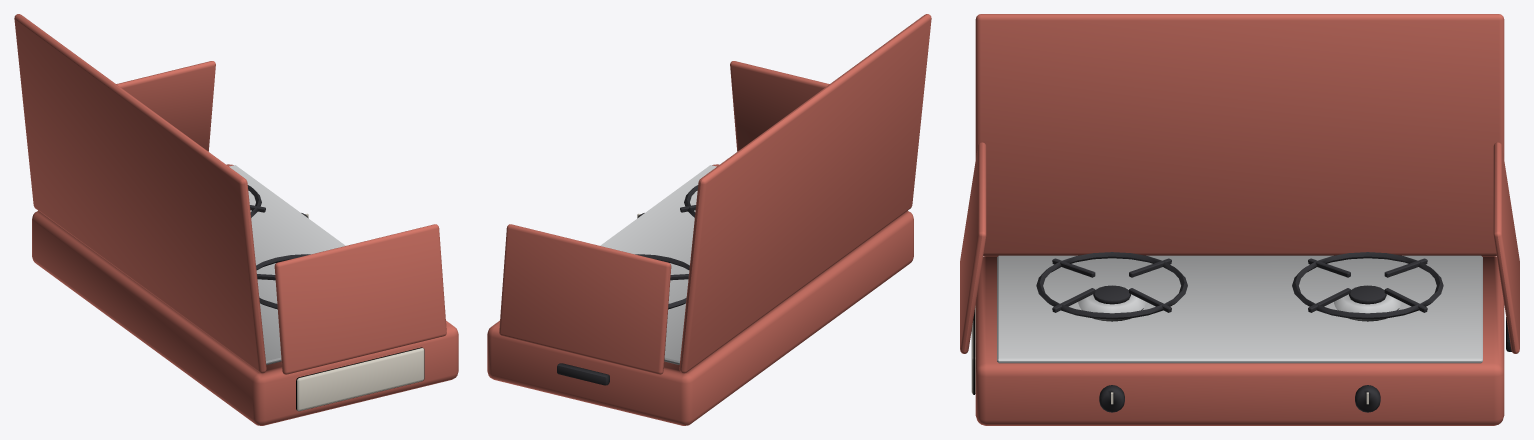
File: nd_stove_2.glb
3 views of the same model, side by side, from view 1: azimuth 30°, elevation 25°; view 2: azimuth 150°, elevation 25°; view 3: azimuth 270°, elevation 25° (orthographic). The views are drawn at different scales.
Parts seen in each view (by area): view 1: PART; view 2: PART; view 3: PART, KNOB_1, KNOB_2.
Part boxes in pixels (x1,y1,x2,y2): PART: (14, 14, 458, 425); PART: (487, 14, 931, 425); PART: (960, 14, 1519, 425); KNOB_1: (1099, 385, 1124, 412); KNOB_2: (1355, 385, 1380, 412).
Size of the model in its own units: 0.37 by 0.3792 by 0.6568.
